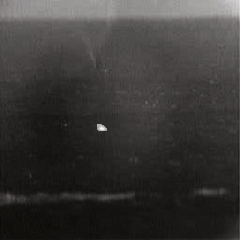Target: (95, 123, 108, 132)
